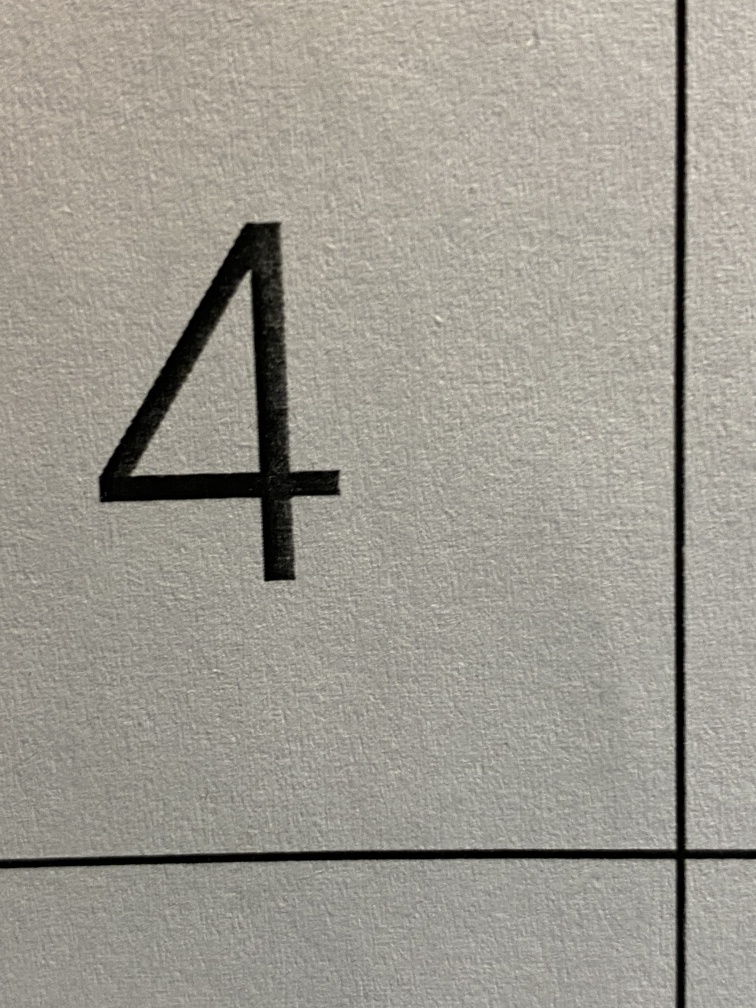four: (64, 161, 415, 647)
